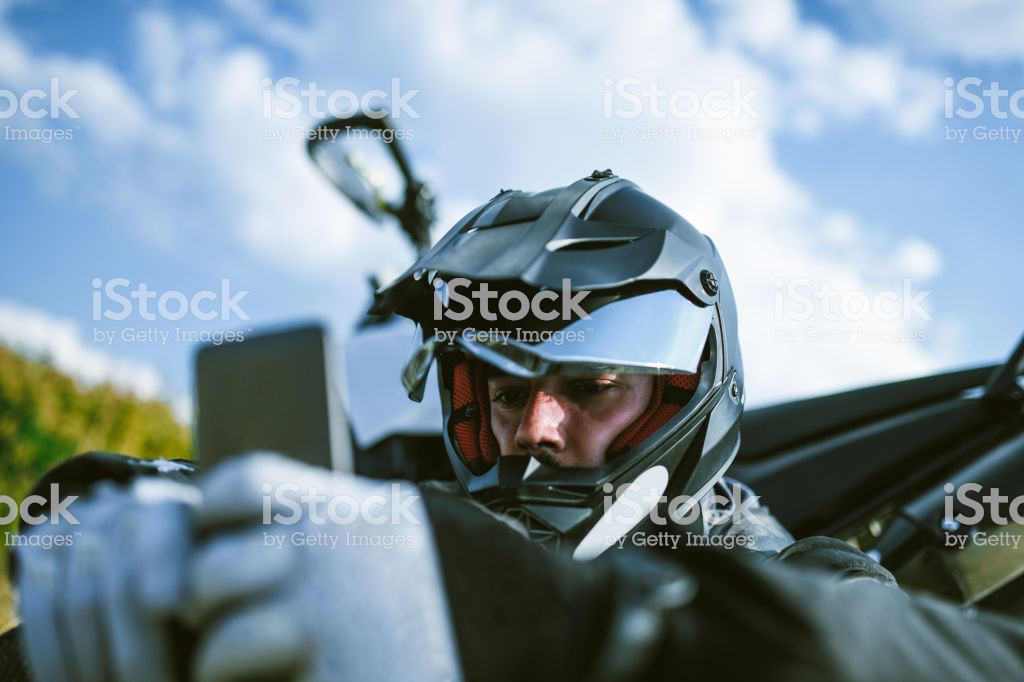helmet: (406, 181, 769, 540)
